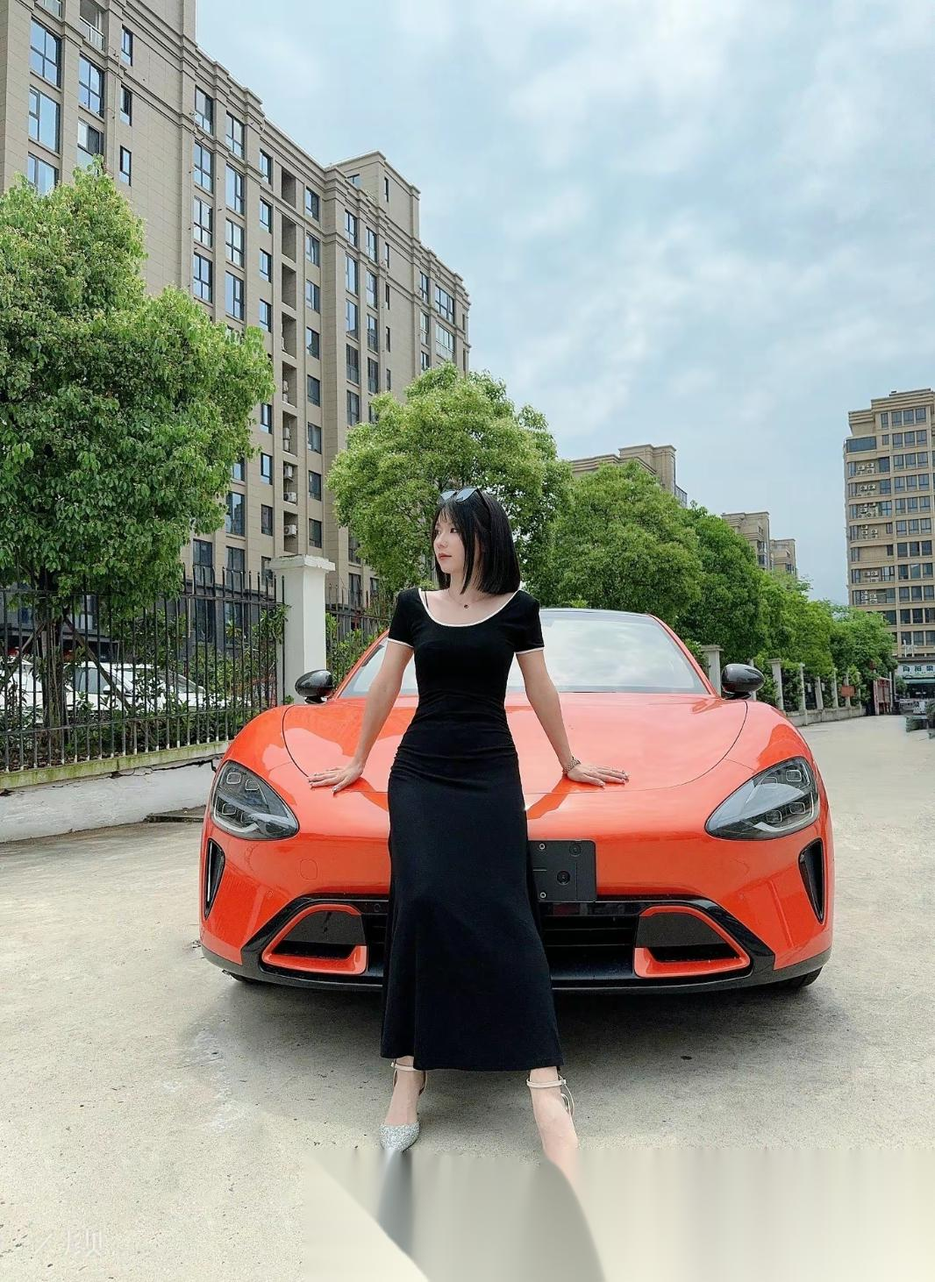su7: (193, 589, 842, 1007)
